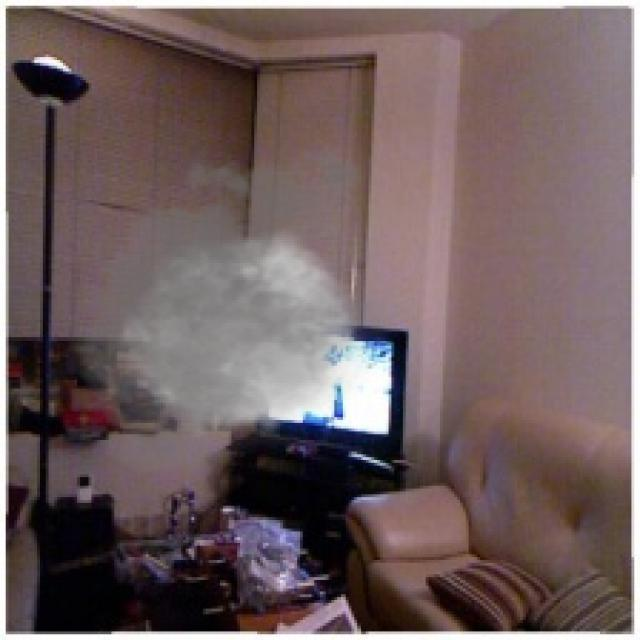Smoke: (51, 140, 423, 486)
